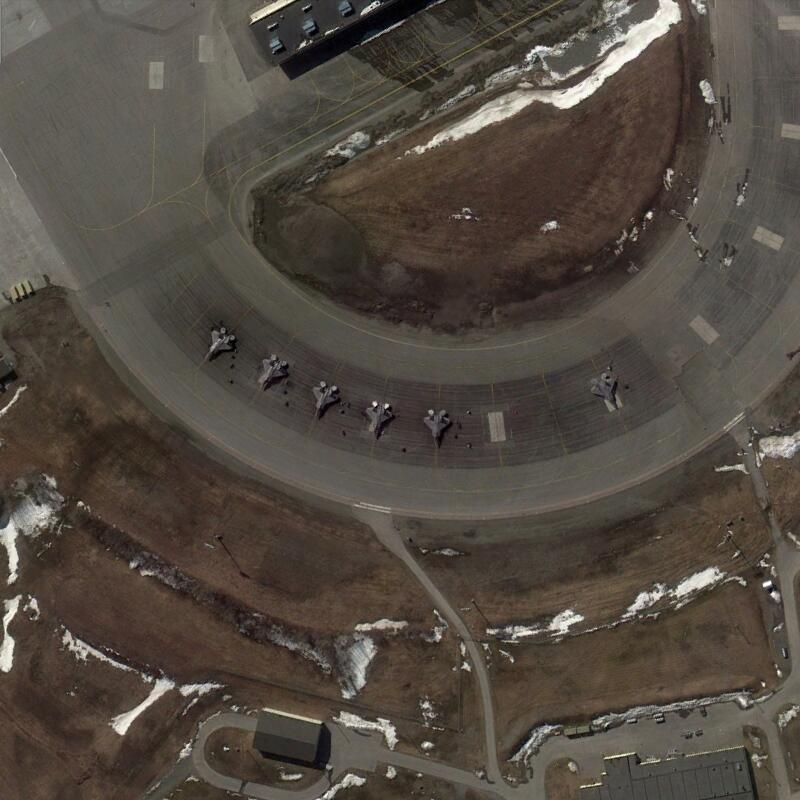A15: (255, 352, 289, 395), (363, 399, 395, 442), (310, 379, 341, 423), (201, 327, 235, 366), (422, 408, 453, 449), (588, 373, 620, 412)
